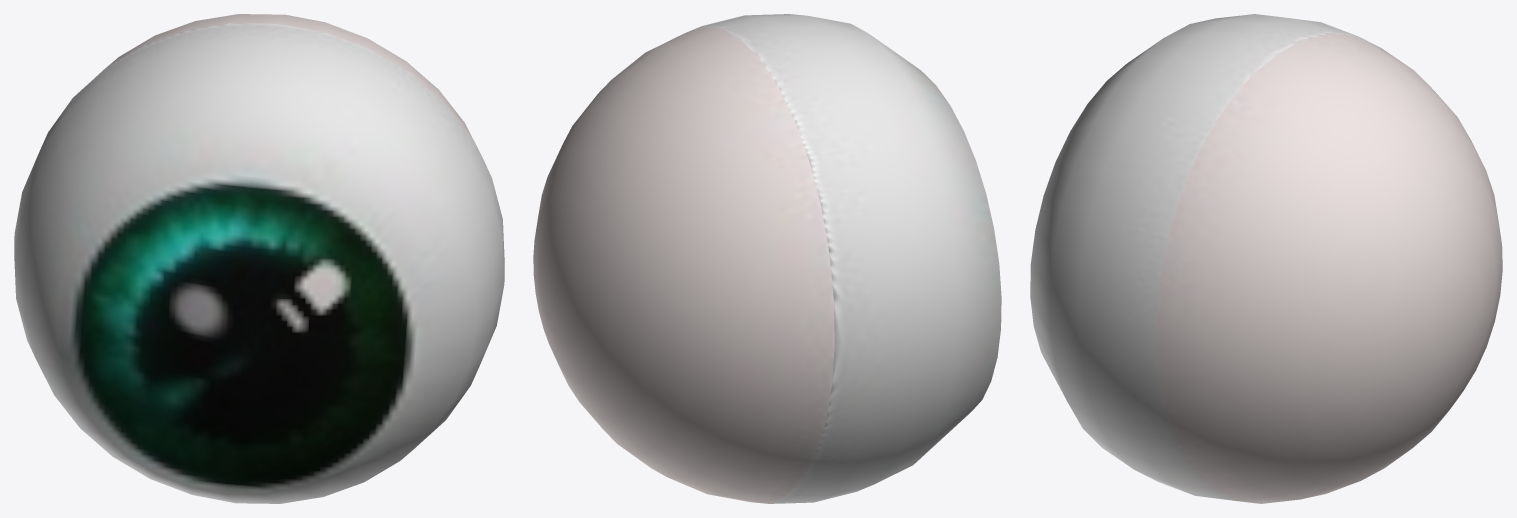
The model's file is tuzi_eye_right.fbx.
3 renders of one model, left to right at view 1: azimuth 30°, elevation 25°; view 2: azimuth 150°, elevation 25°; view 3: azimuth 270°, elevation 25°, orthographic.
Visible parts, largest first — view 1: EYE_LEFT; view 2: EYE_LEFT; view 3: EYE_LEFT.
Boxes of the visible parts, bbox=[...] form: EYE_LEFT: bbox=[14, 14, 504, 503]; EYE_LEFT: bbox=[533, 14, 1001, 503]; EYE_LEFT: bbox=[1030, 14, 1502, 503].
Bounding box in the file's own units: 0.0606 × 0.0605 × 0.0585.
